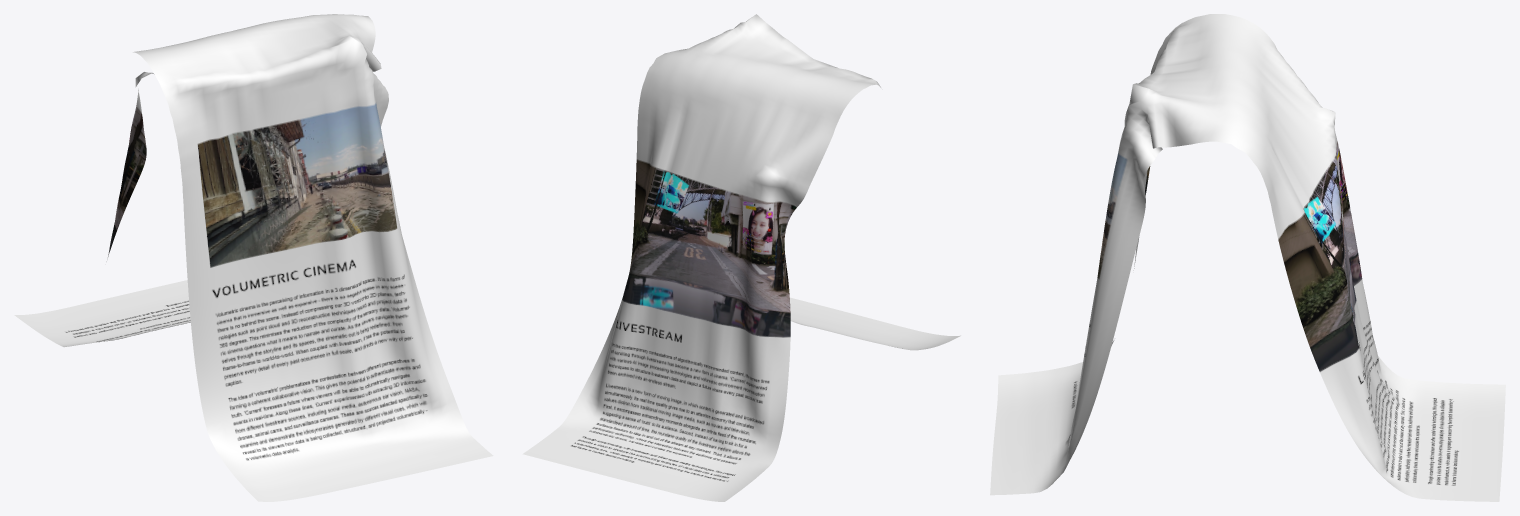
Rendered from long.gltf.
The picture shows the model from 3 angles, left to right: view 1: azimuth 30°, elevation 25°; view 2: azimuth 150°, elevation 25°; view 3: azimuth 270°, elevation 25°; orthographic projection. The views are drawn at different scales.
Visible parts, largest first — view 1: pPlane3; view 2: pPlane3; view 3: pPlane3.
Boxes of the visible parts, x1=… form: pPlane3: x1=14, y1=14, x2=493, y2=501; pPlane3: x1=522, y1=14, x2=960, y2=501; pPlane3: x1=990, y1=14, x2=1505, y2=501.
Size of the model in its own units: 2.22 by 3.23 by 3.99.
Materials: 1 (1 with a texture image).
